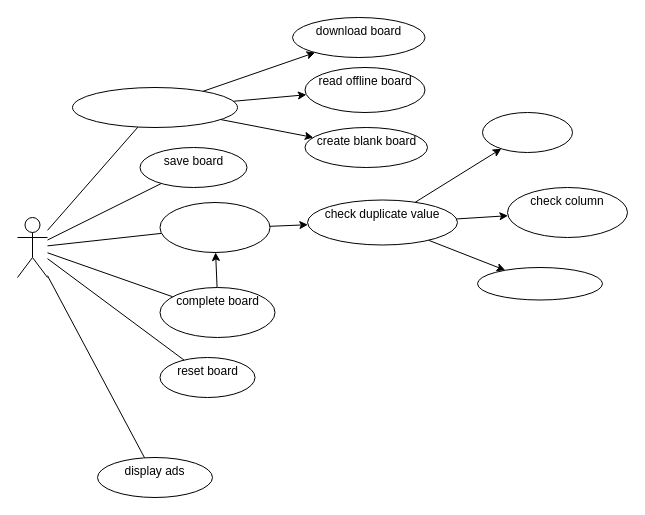
The diagram is 645 pixels wide and 515 high, and some of its shapes have lost their labels. Each missing label, with the centre of its shape:
app: (x=32, y=247)
check block: (x=539, y=283)
check row: (x=527, y=132)
create board: (x=155, y=107)
fill board: (x=214, y=227)
